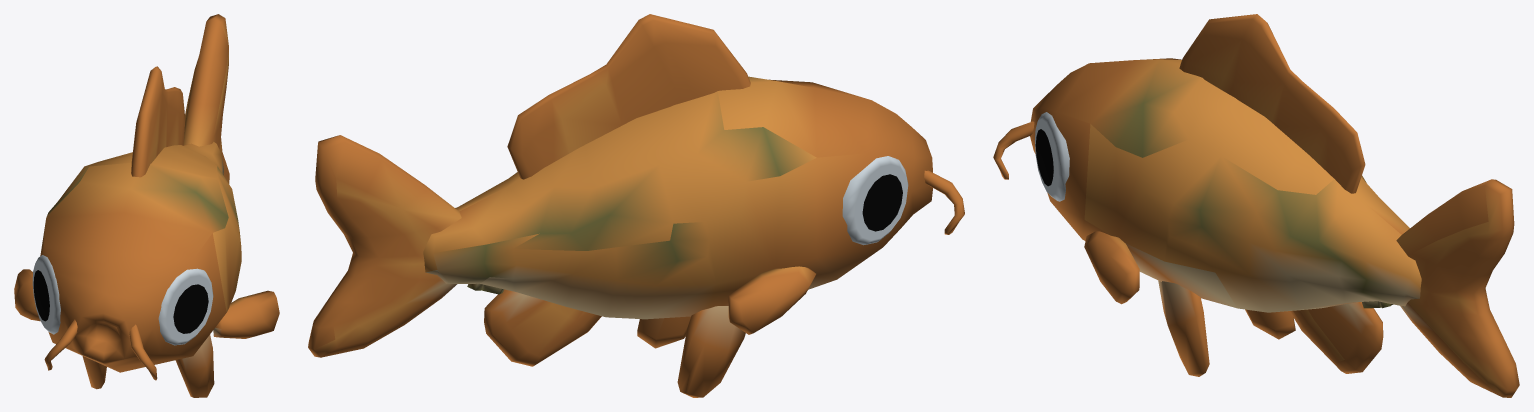
The model's file is Carp.glb.
3 views of the same model, side by side, from view 1: azimuth 30°, elevation 25°; view 2: azimuth 150°, elevation 25°; view 3: azimuth 270°, elevation 25° (orthographic). The views are drawn at different scales.
Parts seen in each view (by area): view 1: 21; view 2: 21; view 3: 21.
Part boxes in pixels (x1,y1,x2,y2): 21: [14, 14, 279, 397]; 21: [308, 14, 964, 397]; 21: [993, 14, 1519, 397].
Bounding box in the file's own units: 0.6476 × 0.5191 × 0.705.
